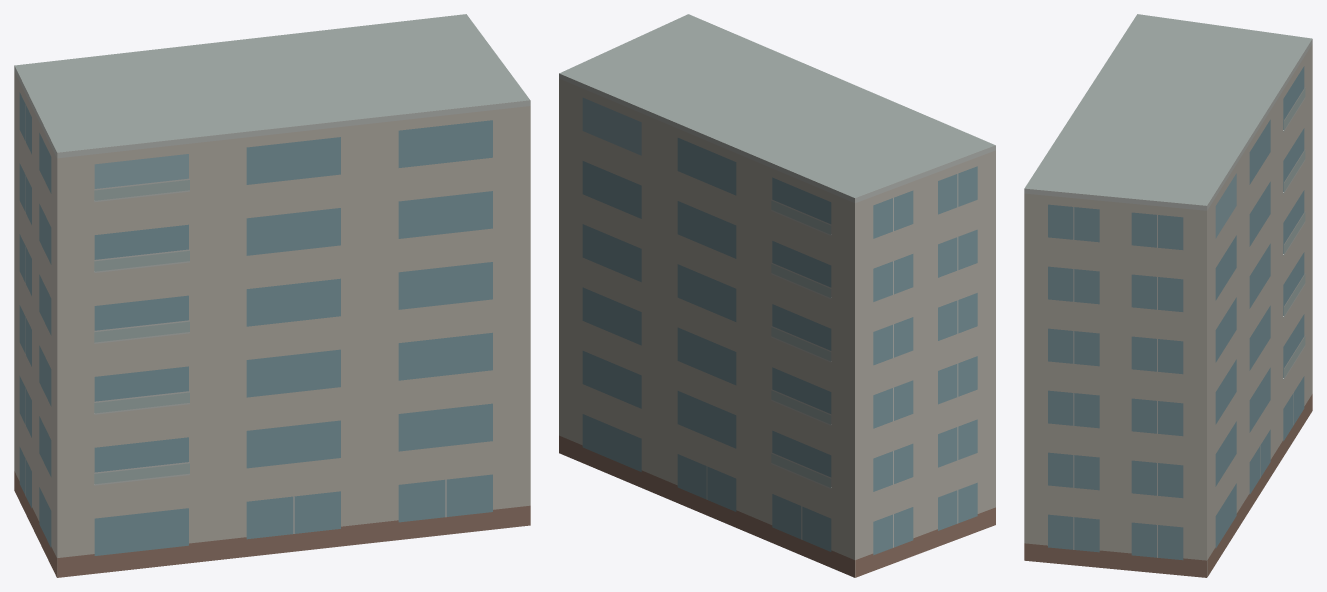
File: survey-upis-33012655.glb
3 renders of one model, left to right at view 1: azimuth 30°, elevation 25°; view 2: azimuth 150°, elevation 25°; view 3: azimuth 270°, elevation 25°, orthographic. The views are drawn at different scales.
Visible parts, largest first — view 1: survey-upis-33012655.tmp; view 2: survey-upis-33012655.tmp; view 3: survey-upis-33012655.tmp.
Part boxes in pixels (bbox=[...]): survey-upis-33012655.tmp: bbox=[14, 14, 530, 577]; survey-upis-33012655.tmp: bbox=[559, 14, 995, 577]; survey-upis-33012655.tmp: bbox=[1024, 14, 1312, 577].
Bounding box in the file's own units: 20.25 × 18.3 × 12.86.
